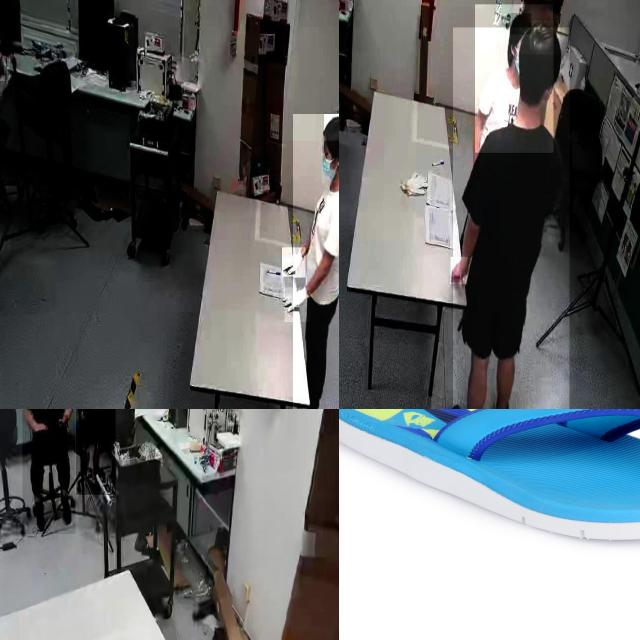Sandals: (339, 409, 640, 544)
face_mask: (321, 150, 339, 183)
hand_glove: (285, 287, 311, 323), (282, 248, 306, 278)
hand_noglove: (450, 257, 468, 285), (0, 55, 10, 81), (31, 420, 48, 434), (56, 415, 68, 429)
head_nohelmet: (519, 20, 561, 55), (510, 14, 532, 36), (323, 114, 339, 141)
person: (453, 27, 570, 409), (292, 114, 339, 409), (475, 4, 553, 153), (22, 409, 75, 534), (76, 409, 116, 495)
shoes: (30, 494, 50, 538), (57, 492, 77, 534), (488, 393, 514, 409), (285, 399, 322, 409)
